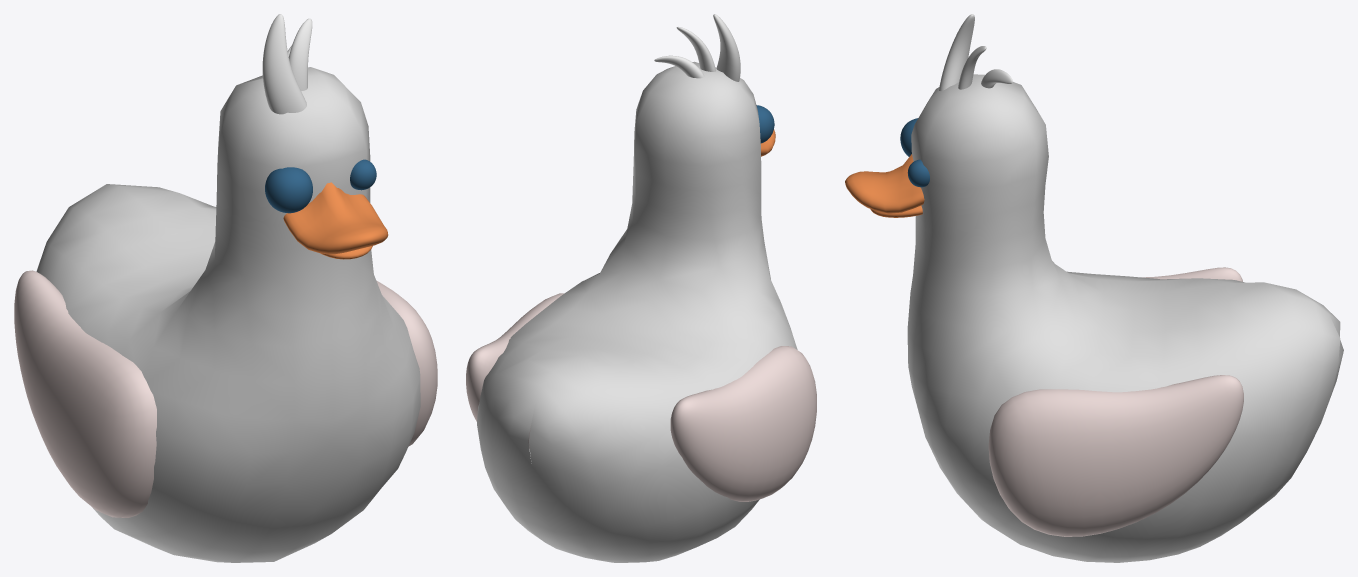
File: DUCK.glb
The picture shows the model from 3 angles, left to right: view 1: azimuth 30°, elevation 25°; view 2: azimuth 150°, elevation 25°; view 3: azimuth 270°, elevation 25°; orthographic projection. The views are drawn at different scales.
Visible parts, largest first — view 1: Body, Cube.002, Cube, Cube.005, Cube.003, Cube.004; view 2: Body, Cube.002, Cube.005, Cube.003; view 3: Body, Cube.002, Cube, Cube.005.
Boxes of the visible parts, x1,y1,x2,y2 form: Body: (36, 67, 420, 562); Cube.002: (14, 270, 437, 517); Cube: (283, 182, 388, 254); Cube.005: (262, 14, 312, 114); Cube.003: (265, 167, 312, 213); Cube.004: (350, 159, 376, 190); Body: (477, 61, 797, 562); Cube.002: (466, 293, 816, 501); Cube.005: (654, 14, 740, 81); Cube.003: (756, 105, 774, 143); Body: (907, 74, 1343, 562); Cube.002: (988, 267, 1243, 536); Cube: (845, 154, 924, 213); Cube.005: (939, 14, 1012, 90).
Size of the model in its own units: 1.74 by 2.85 by 2.46.
